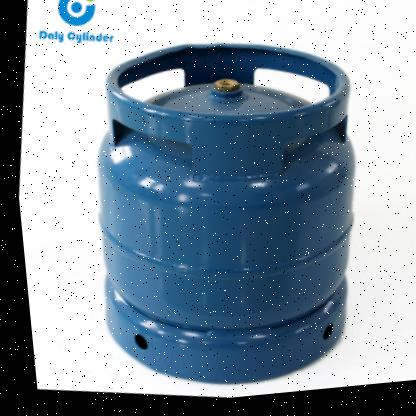gas-tank: (33, 2, 405, 413)
